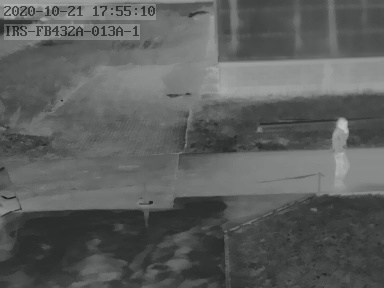person: (331, 116, 350, 189)
